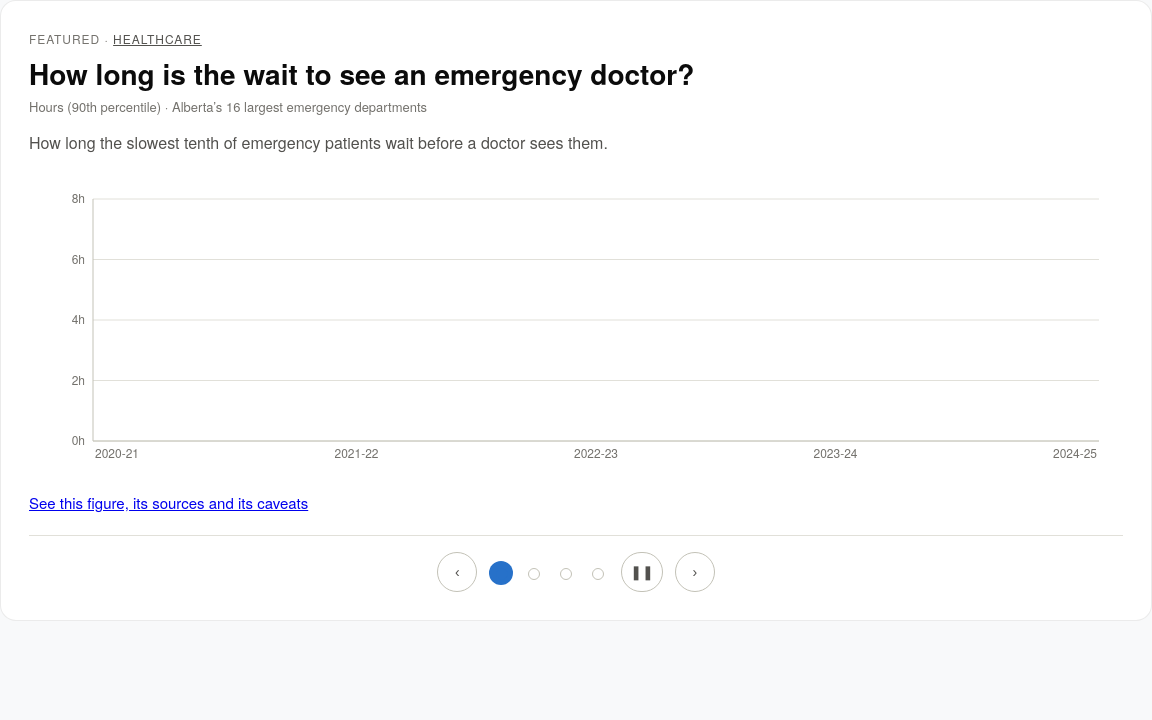
it: the controls › wrap backwards from the first to the last
Click the button named "Previous featured figure" at (457, 572), box [437, 552, 477, 592]
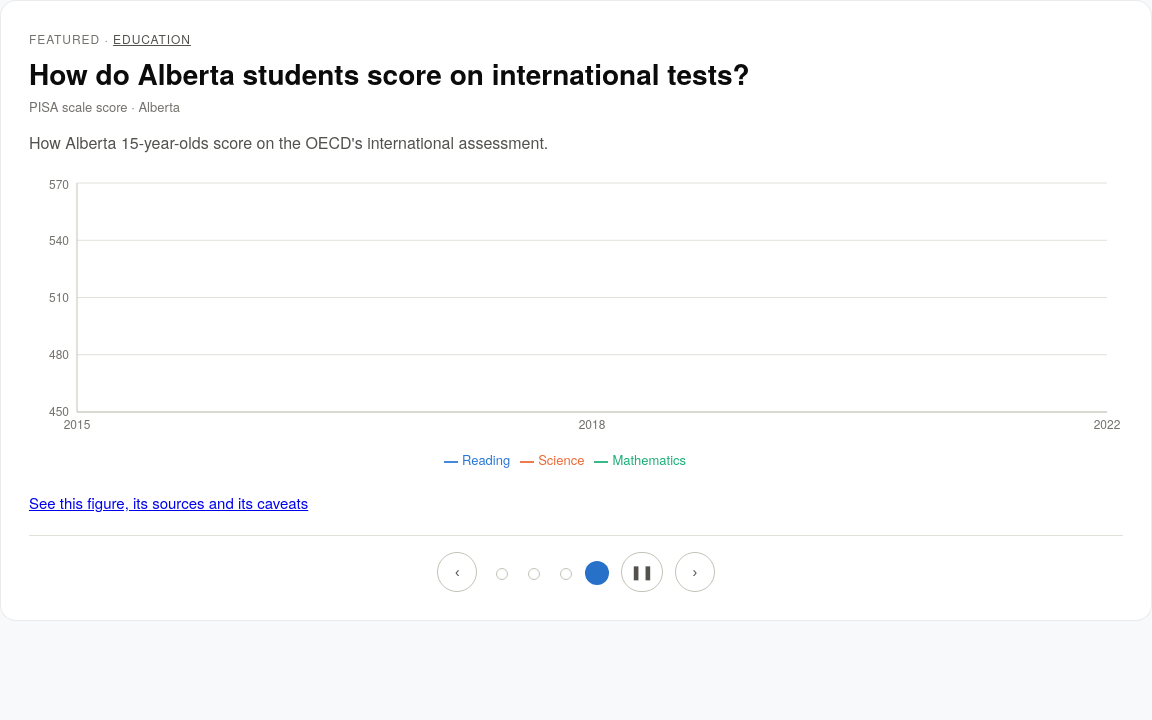
Expected: the link "How do Alberta students score on international tests?" is shown, [29, 53, 750, 94]
